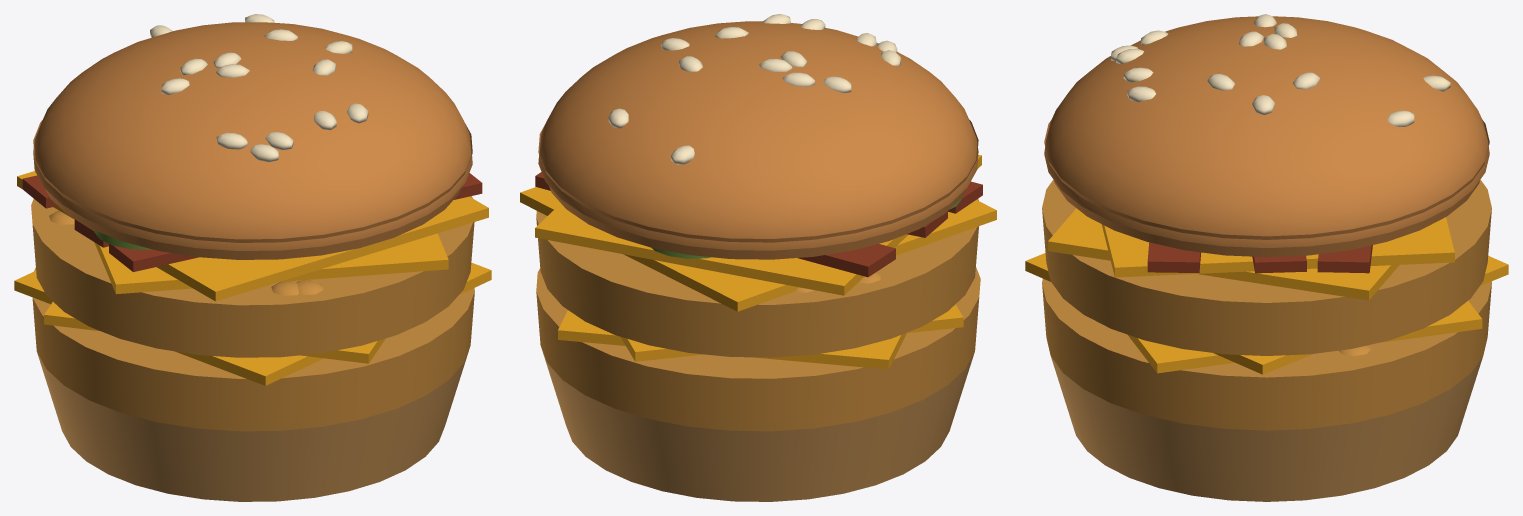
The model's file is burger-pollo-doble.glb.
3 renders of one model, left to right at view 1: azimuth 30°, elevation 25°; view 2: azimuth 150°, elevation 25°; view 3: azimuth 270°, elevation 25°, orthographic.
Size of the model in its own units: 0.1764 by 0.15 by 0.1764.
